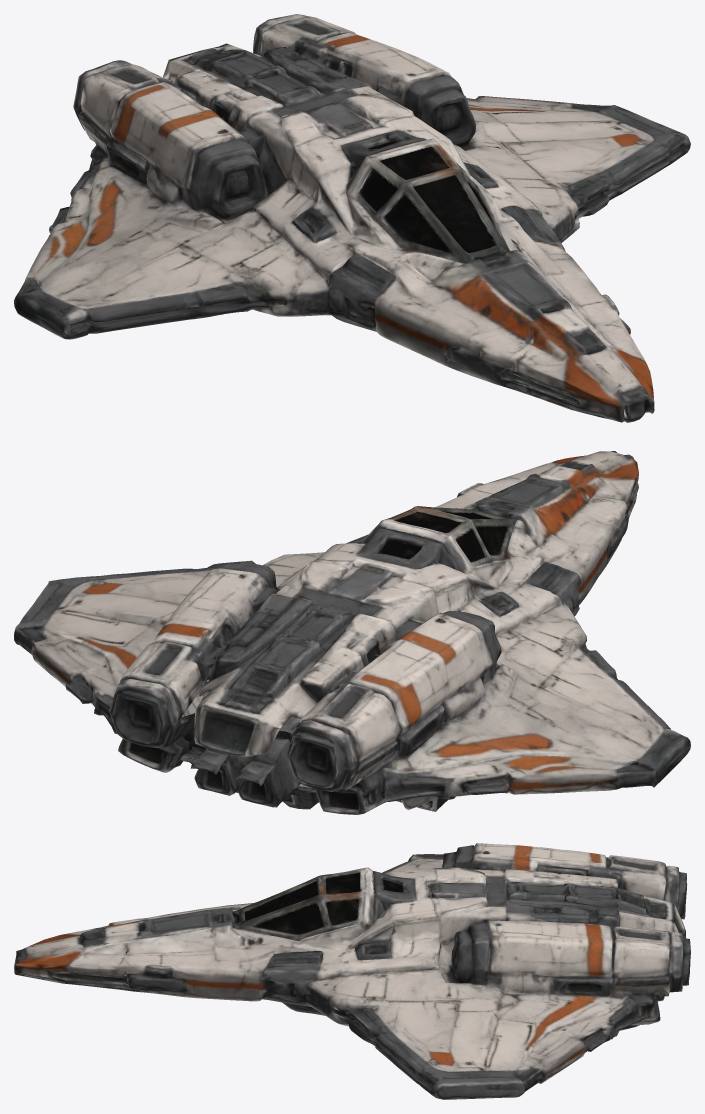
The model's file is relay_interceptor.glb.
3 renders of one model, top to bottom at view 1: azimuth 30°, elevation 25°; view 2: azimuth 150°, elevation 25°; view 3: azimuth 270°, elevation 25°, orthographic. The views are drawn at different scales.
Parts seen in each view (by area): view 1: Prop; view 2: Prop; view 3: Prop.
Boxes of the visible parts, <box> form: Prop: <box>14,14,690,422</box>; Prop: <box>14,451,690,814</box>; Prop: <box>14,843,690,1099</box>.
Size of the model in its own units: 0.8696 by 0.2491 by 1.
1 material, 1 textured.
